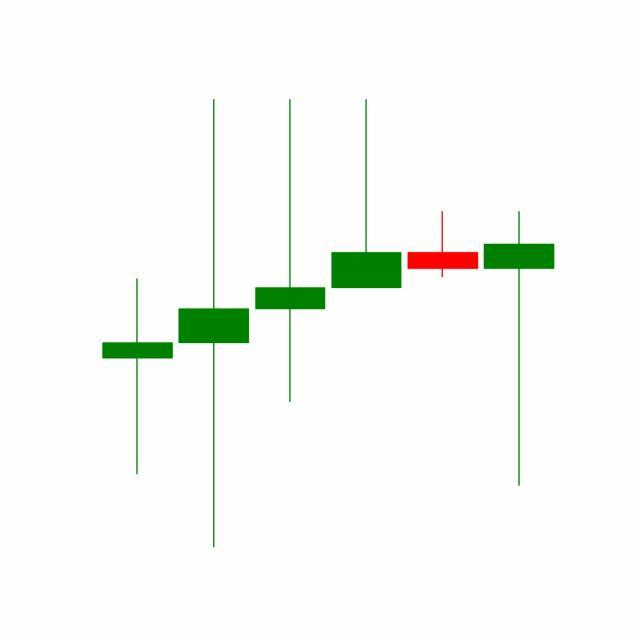Gravestone Doji: (404, 210, 482, 279)
